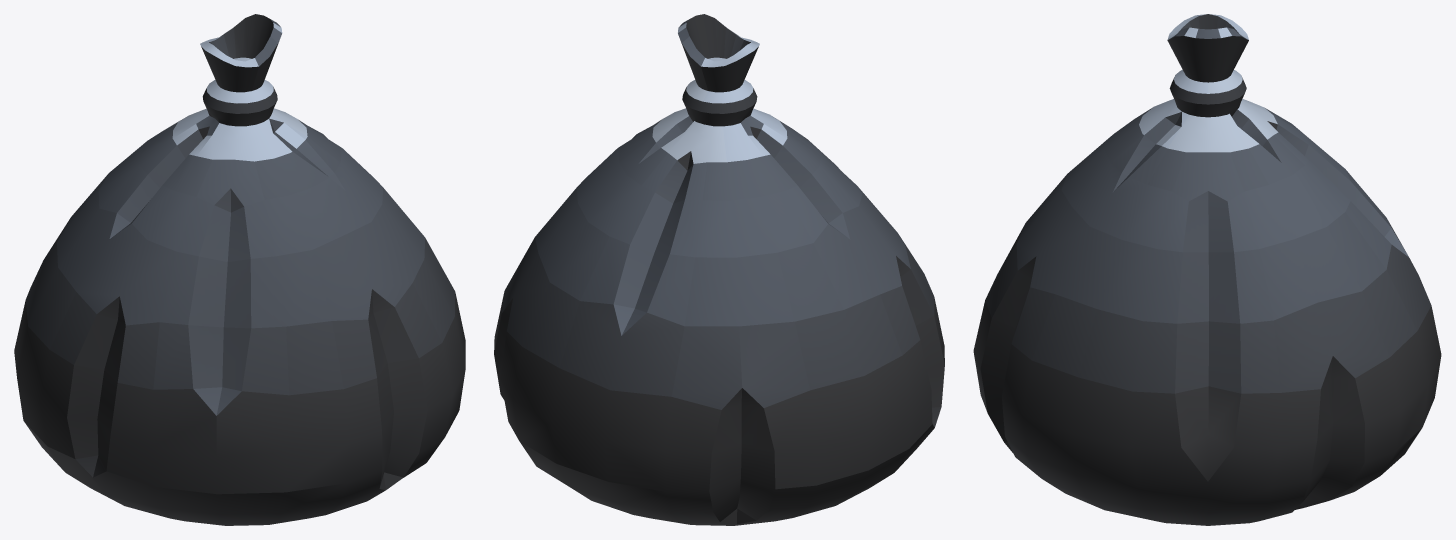
Rendered from trash_bags.glb.
3 renders of one model, left to right at view 1: azimuth 30°, elevation 25°; view 2: azimuth 150°, elevation 25°; view 3: azimuth 270°, elevation 25°, orthographic. The views are drawn at different scales.
Parts seen in each view (by area): view 1: Prop; view 2: Prop; view 3: Prop.
Part boxes in pixels (<box>): Prop: <box>14,14,465,525</box>; Prop: <box>494,14,944,525</box>; Prop: <box>973,14,1441,525</box>.
Size of the model in its own units: 0.4969 by 0.5637 by 0.5033.
